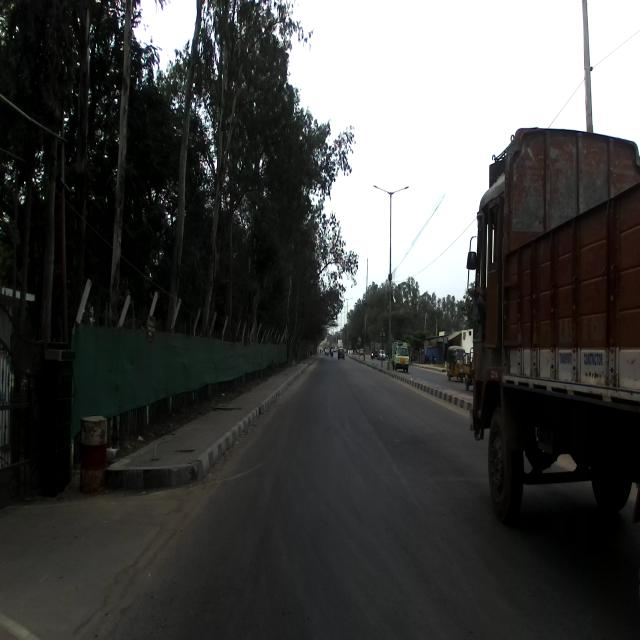barrier ahead at: (76, 412, 110, 499)
truck ahead at: (464, 119, 640, 565)
